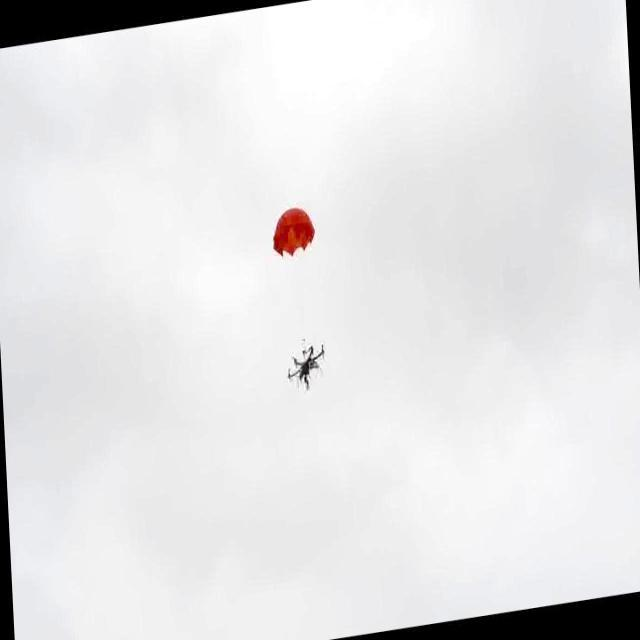drone: (284, 341, 328, 391)
